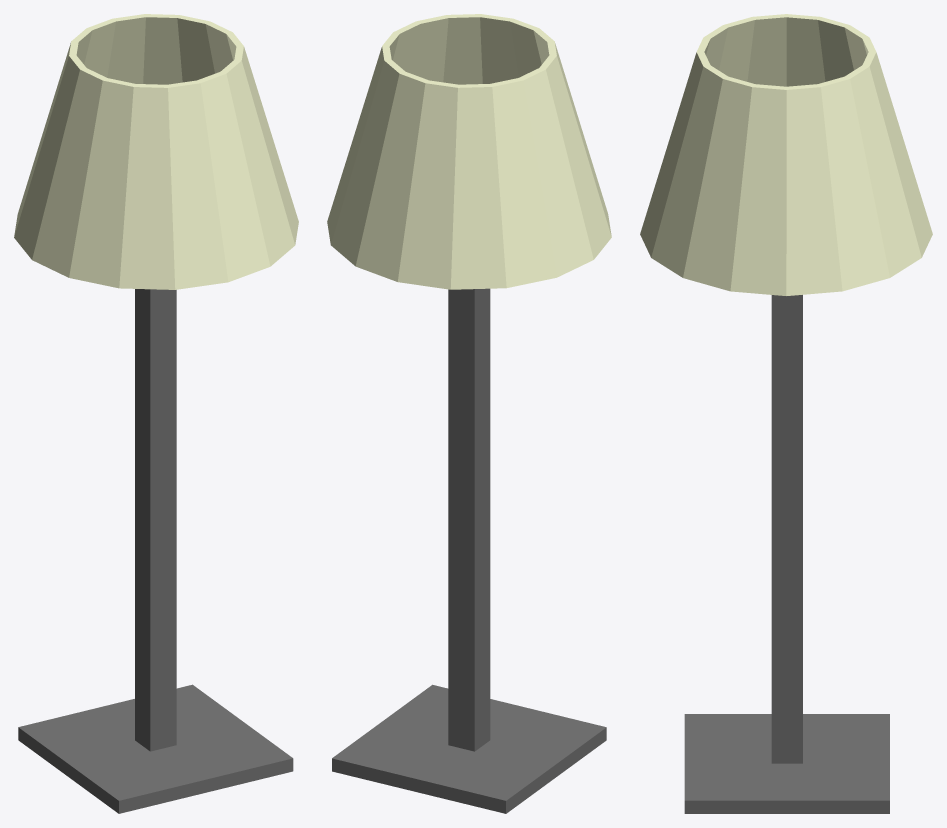
Rendered from Lampara.fbx.
3 views of the same model, side by side, from view 1: azimuth 30°, elevation 25°; view 2: azimuth 150°, elevation 25°; view 3: azimuth 270°, elevation 25° (orthographic). The views are drawn at different scales.
Parts seen in each view (by area): view 1: Lampara, Cube.003; view 2: Lampara, Cube.003; view 3: Lampara, Cube.003.
Boxes of the visible parts, bbox=[...] form: Lampara: bbox=[14, 14, 298, 289]; Cube.003: bbox=[18, 289, 293, 813]; Lampara: bbox=[327, 14, 611, 289]; Cube.003: bbox=[332, 288, 606, 813]; Lampara: bbox=[640, 14, 932, 295]; Cube.003: bbox=[684, 295, 889, 813].
Size of the model in its own units: 59.48 by 161 by 59.48.
